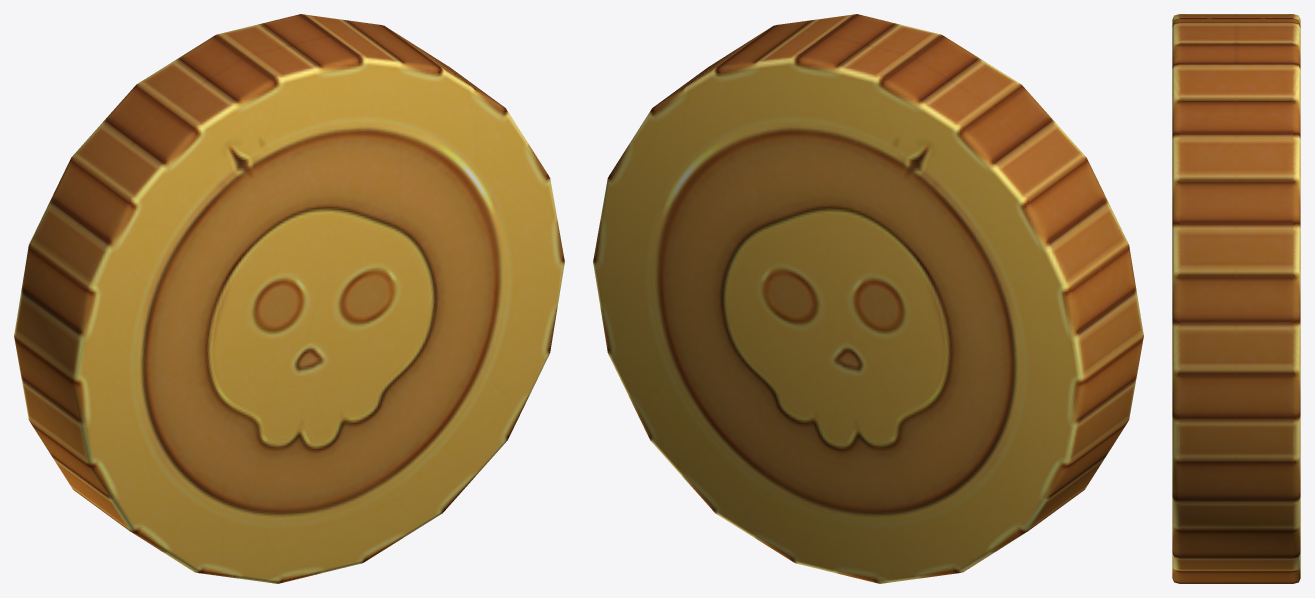
File: Item_Coin.fbx
3 views of the same model, side by side, from view 1: azimuth 30°, elevation 25°; view 2: azimuth 150°, elevation 25°; view 3: azimuth 270°, elevation 25° (orthographic).
Parts seen in each view (by area): view 1: Item_Coin_0_mesh; view 2: Item_Coin_0_mesh; view 3: Item_Coin_0_mesh.
Boxes of the visible parts, x1,y1,x2,y2 form: Item_Coin_0_mesh: [14, 14, 564, 583]; Item_Coin_0_mesh: [593, 14, 1143, 583]; Item_Coin_0_mesh: [1172, 14, 1300, 583].
Size of the model in its own units: 63.7 by 62.73 by 14.3.
